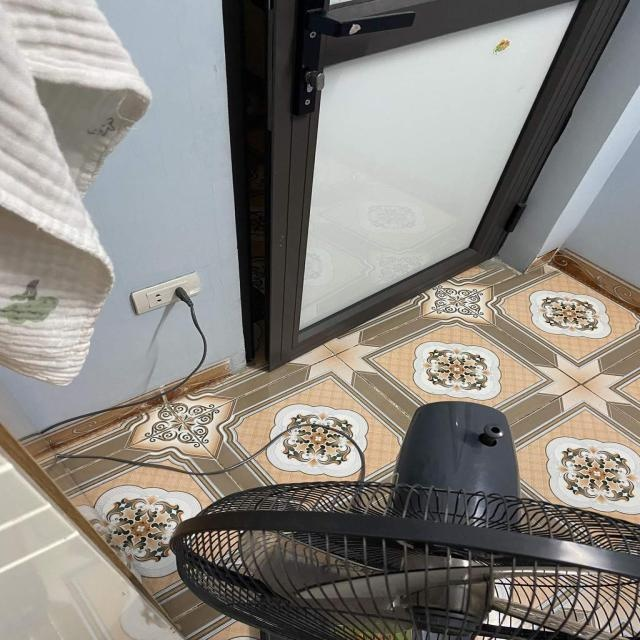outlet: (129, 272, 200, 315)
